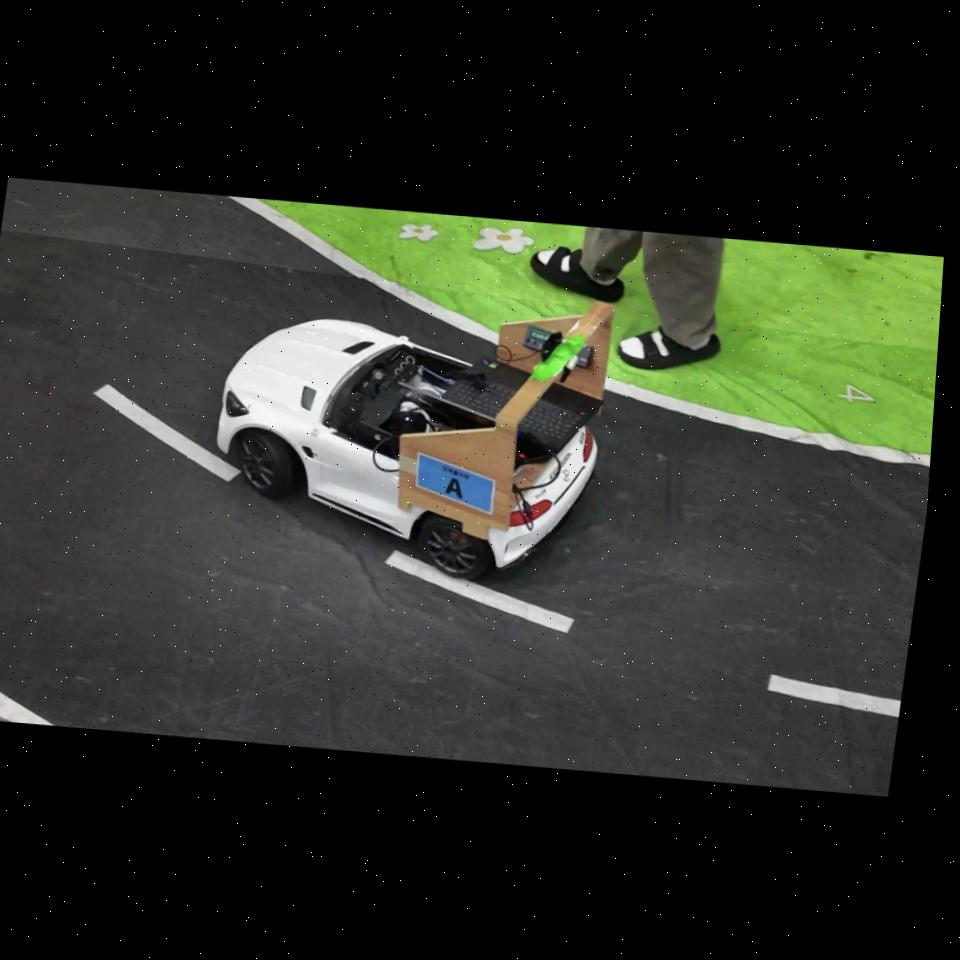broken_line: (384, 550, 575, 634), (92, 384, 241, 482), (767, 674, 901, 718)
